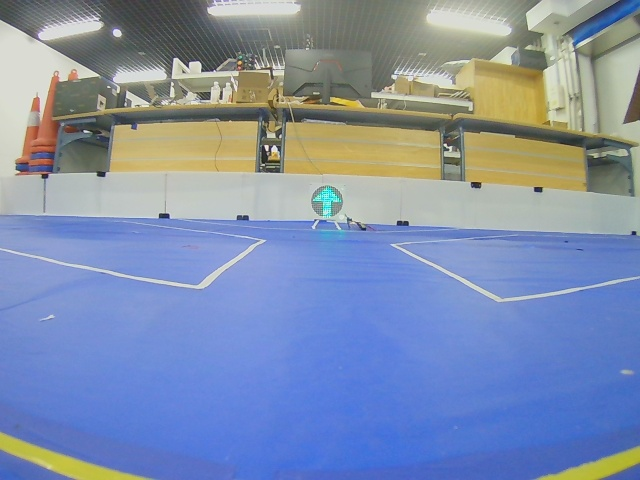straight_green: (311, 186, 343, 218)
